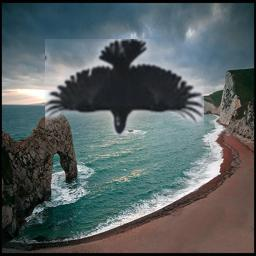Crow: (45, 39, 204, 135)
